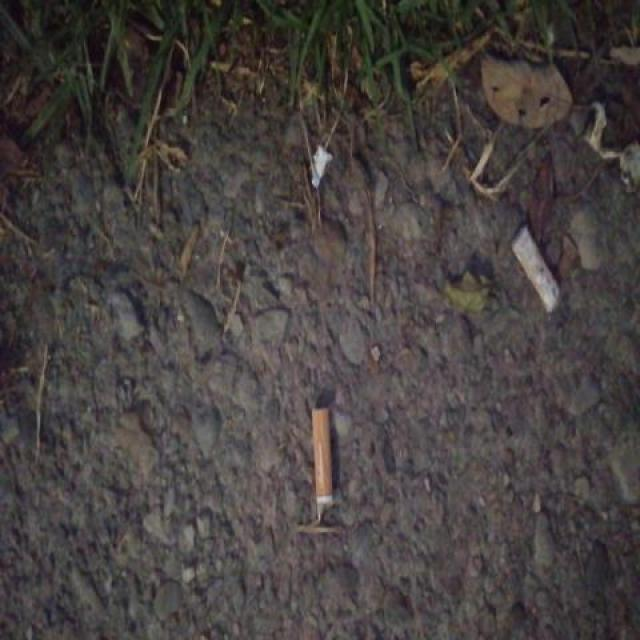non-organic waste: (506, 218, 566, 318), (306, 402, 341, 519)
